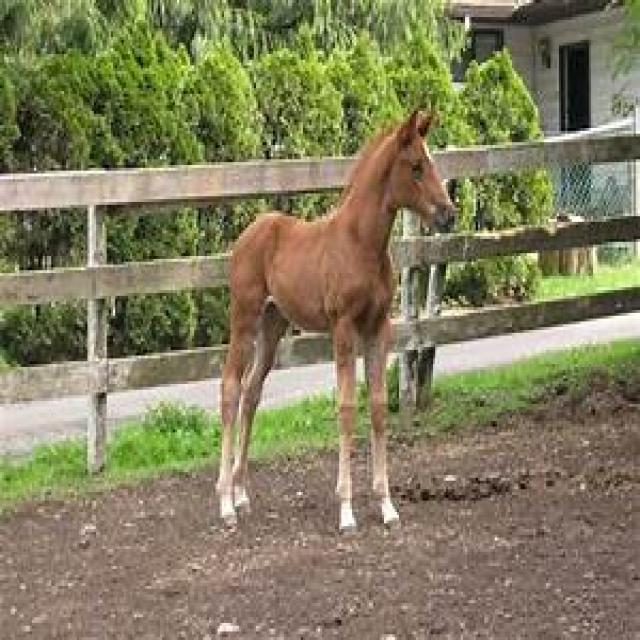horse: (180, 78, 464, 552)
